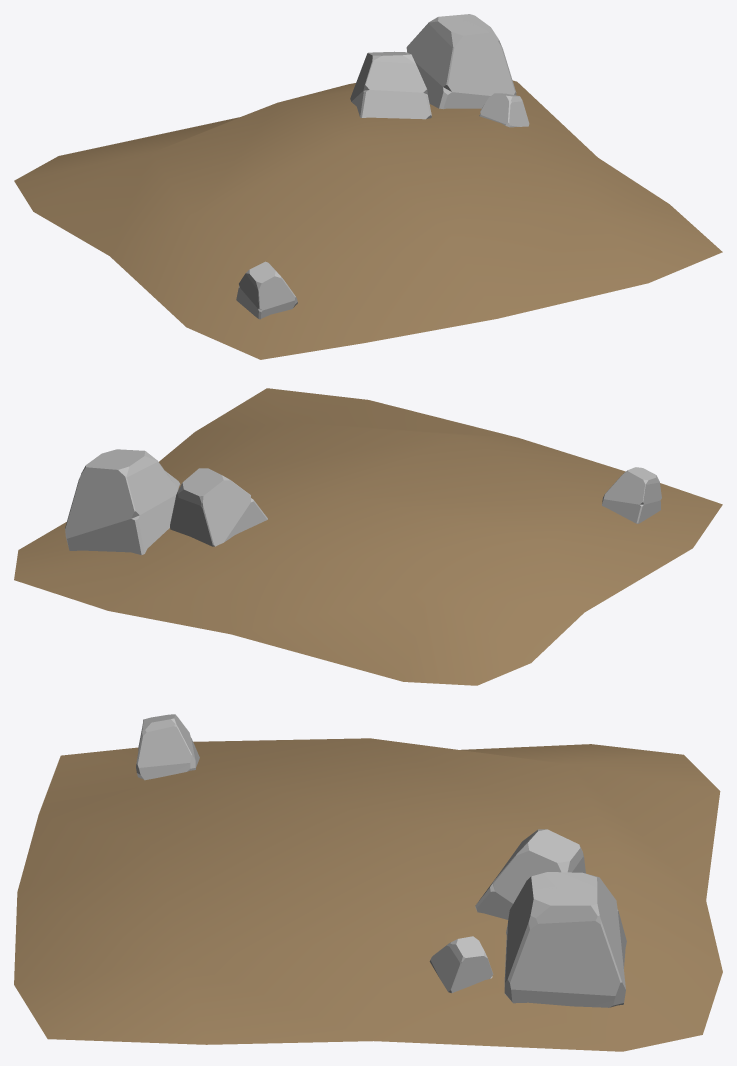
The model's file is Debris6.fbx.
3 renders of one model, top to bottom at view 1: azimuth 30°, elevation 25°; view 2: azimuth 150°, elevation 25°; view 3: azimuth 270°, elevation 25°, orthographic. The views are drawn at different scales.
Visible parts, largest first — view 1: debris6; view 2: debris6; view 3: debris6.
Boxes of the visible parts, x1,y1,x2,y2 form: debris6: [14, 14, 722, 359]; debris6: [14, 388, 722, 685]; debris6: [14, 714, 722, 1051].
Size of the model in its own units: 420 by 76.21 by 406.
